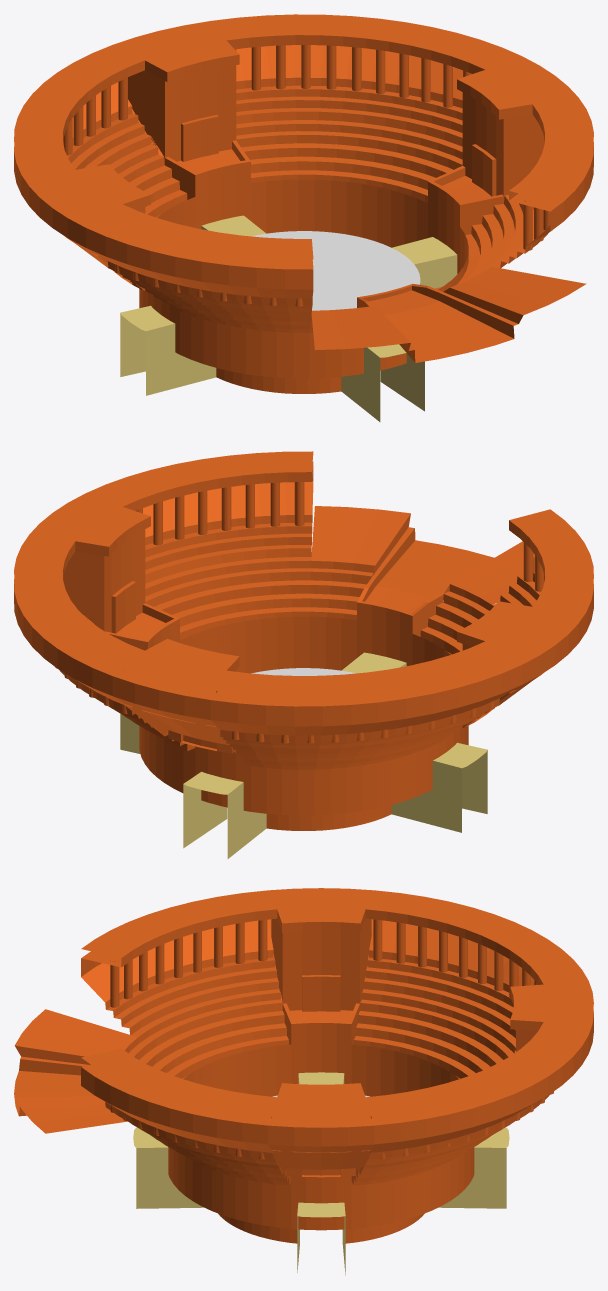
The model's file is ColiseofullparetsTallat.fbx.
3 views of the same model, one above another, from view 1: azimuth 30°, elevation 25°; view 2: azimuth 150°, elevation 25°; view 3: azimuth 270°, elevation 25° (orthographic). The views are drawn at different scales.
Visible parts, largest first — view 1: Cylinder; view 2: Cylinder; view 3: Cylinder.
Boxes of the visible parts, x1,y1,x2,y2 form: Cylinder: (14, 14, 593, 421); Cylinder: (14, 451, 593, 858); Cylinder: (14, 888, 593, 1275).
Size of the model in its own units: 5692 by 2250 by 6055.
